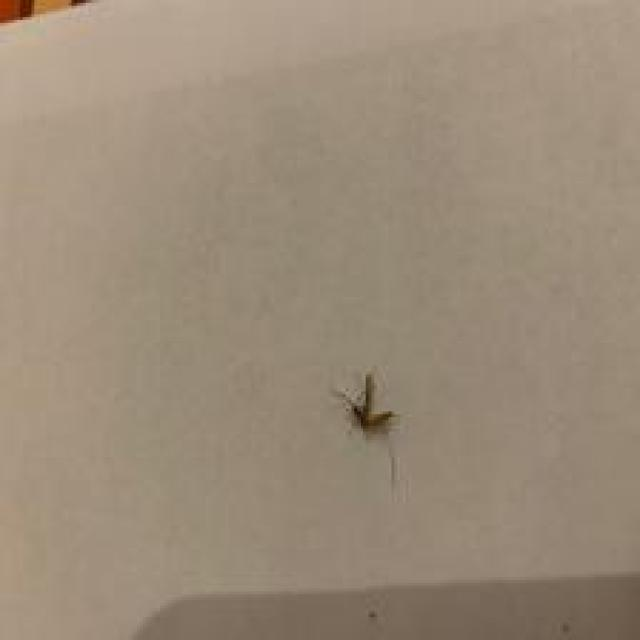Culex: (334, 370, 397, 439)
